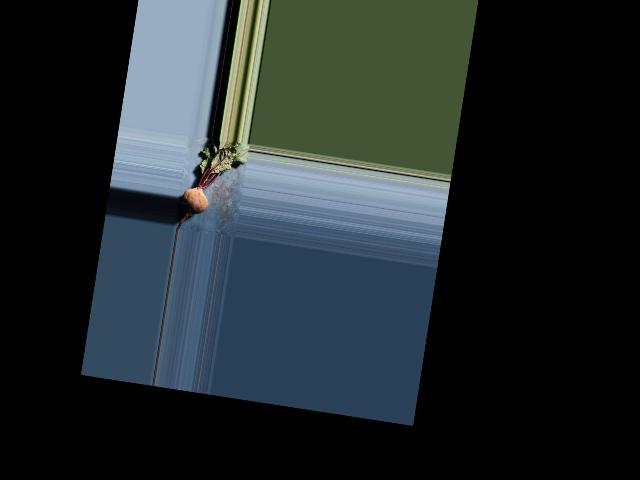beet: (176, 134, 250, 237)
